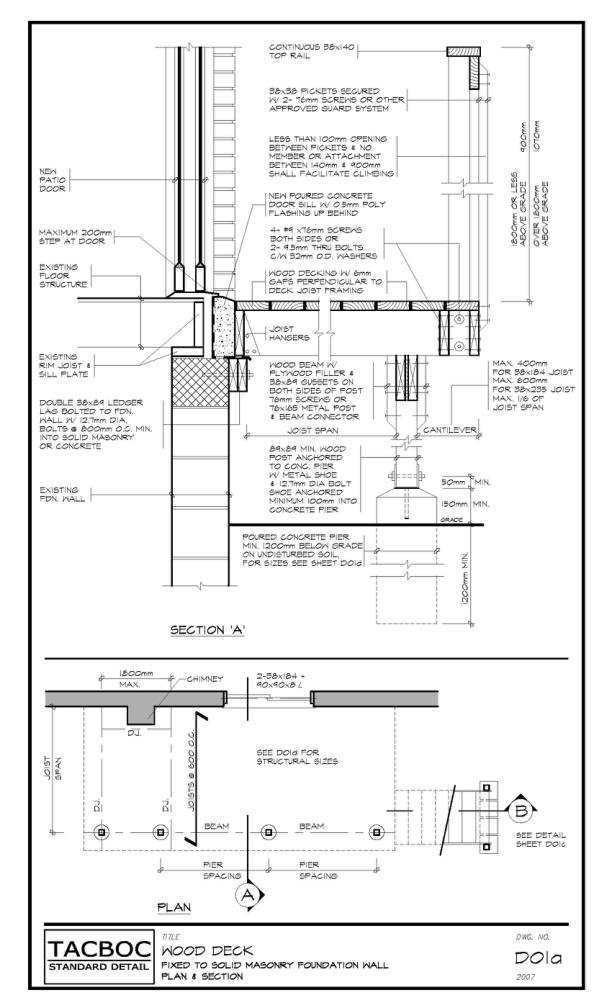elevation: (236, 813, 266, 914), (456, 793, 539, 824)
